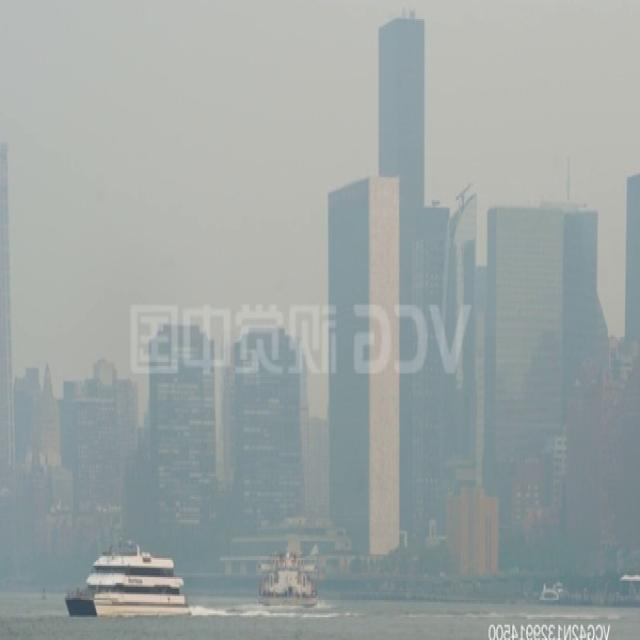houseboat: (538, 576, 568, 605)
passenger ship: (64, 540, 193, 617), (254, 550, 316, 612)
